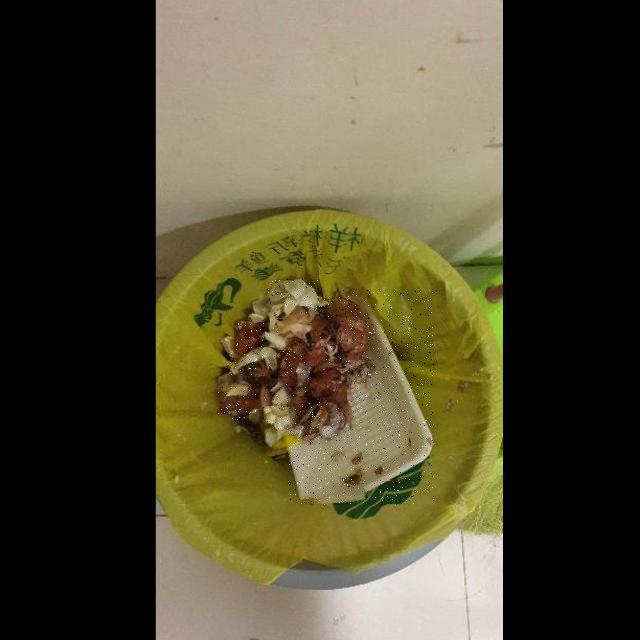biowaste: (329, 296, 372, 365), (268, 280, 320, 333), (264, 306, 311, 351), (311, 365, 350, 416), (217, 387, 269, 420), (306, 315, 336, 366), (301, 399, 329, 444), (234, 323, 267, 358), (231, 347, 263, 375), (281, 349, 300, 394), (263, 406, 298, 429), (259, 348, 277, 372), (225, 381, 250, 398), (272, 387, 289, 405)
styrofoam: (288, 290, 434, 505)
